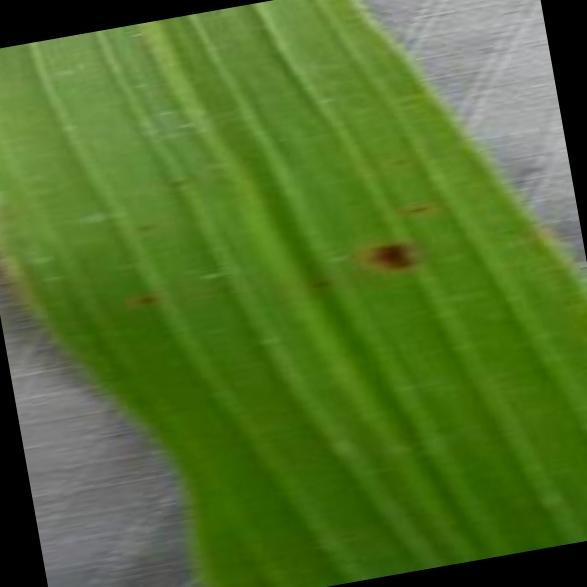Brown_Spot: (354, 229, 422, 282), (157, 166, 195, 194), (126, 283, 164, 310), (379, 144, 411, 174), (398, 196, 435, 221), (298, 270, 331, 294), (126, 213, 154, 237)
